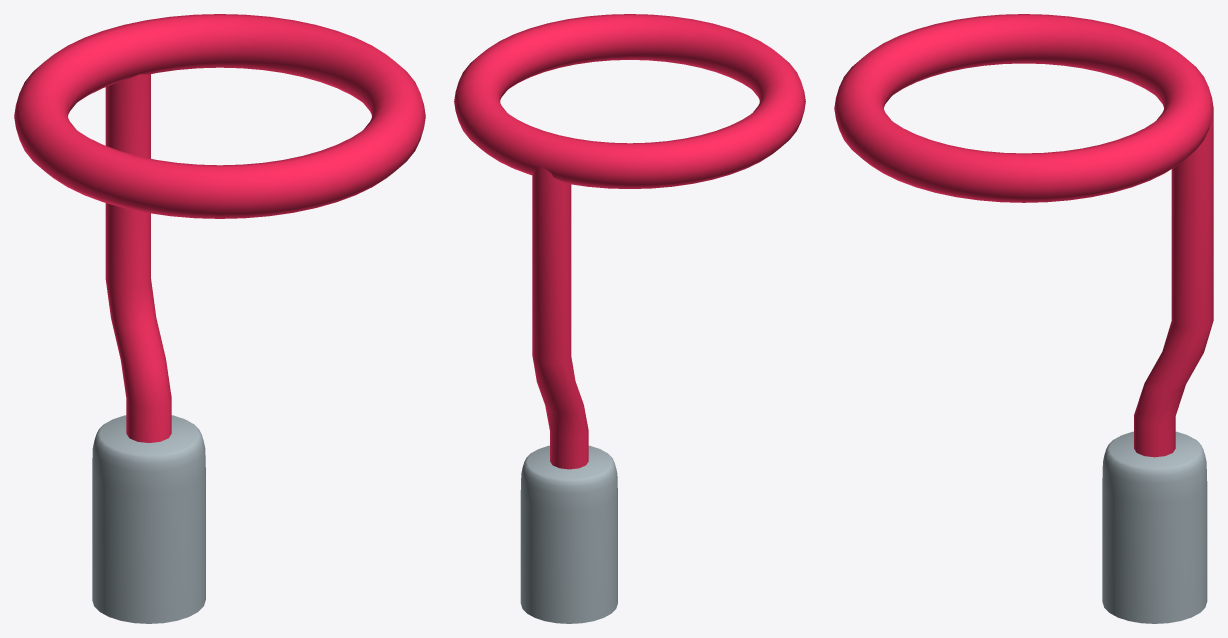
Rendered from hoop_teamRed-col.glb.
3 renders of one model, left to right at view 1: azimuth 30°, elevation 25°; view 2: azimuth 150°, elevation 25°; view 3: azimuth 270°, elevation 25°, orthographic. The views are drawn at different scales.
Parts seen in each view (by area): view 1: hoop_teamRed-col; view 2: hoop_teamRed-col; view 3: hoop_teamRed-col.
Boxes of the visible parts, bbox=[...] form: hoop_teamRed-col: bbox=[14, 14, 425, 623]; hoop_teamRed-col: bbox=[454, 14, 805, 623]; hoop_teamRed-col: bbox=[834, 14, 1213, 623].
Size of the model in its own units: 2 by 3 by 2.
